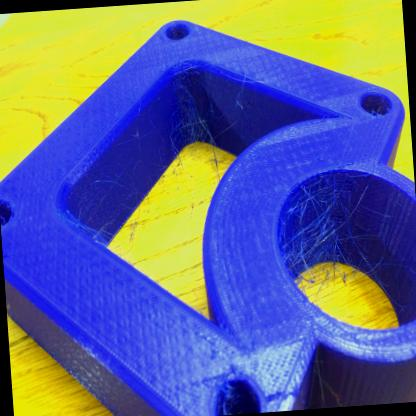fail: (278, 172, 371, 295), (168, 68, 227, 170)
